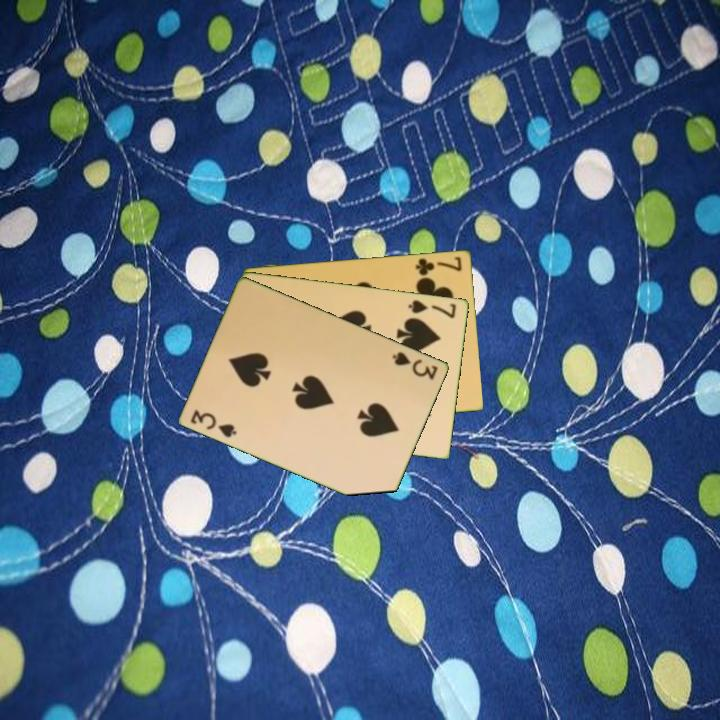3s: (389, 348, 441, 383), (187, 406, 240, 440)
7c: (412, 253, 465, 278)
7s: (405, 296, 459, 321)
